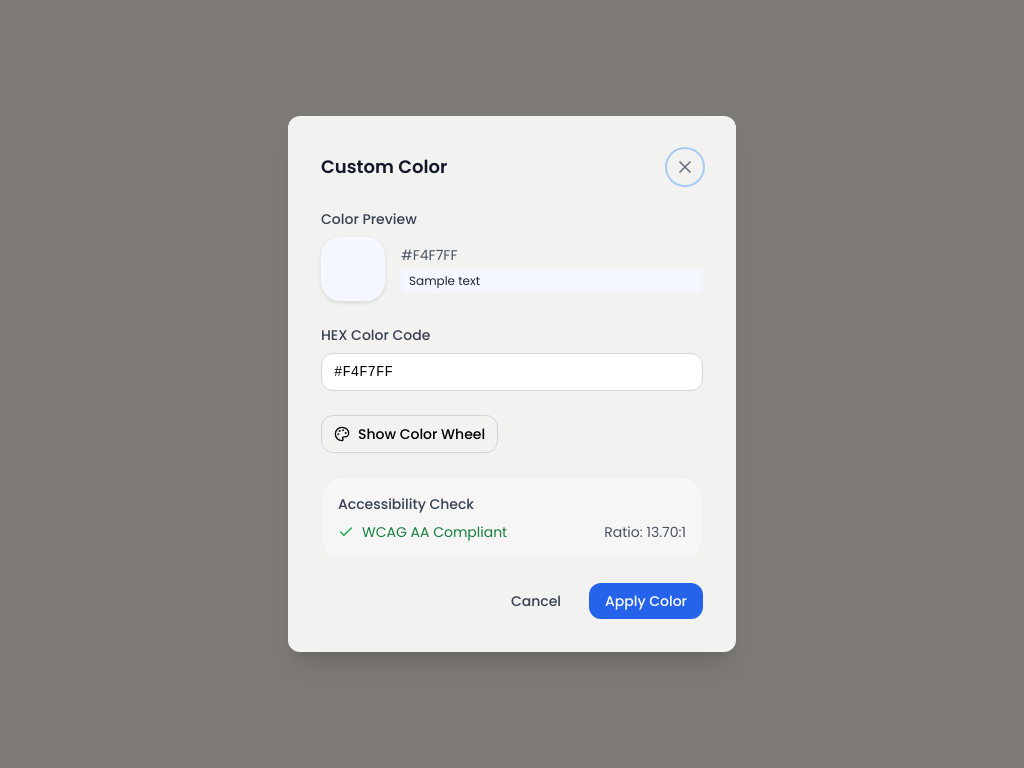
Test: AdvancedColorModal › auto-adds # prefix to color input
Replace the text in the field with test id "hex-input" with "FF5733" at point(512, 372), box [321,353,703,391]
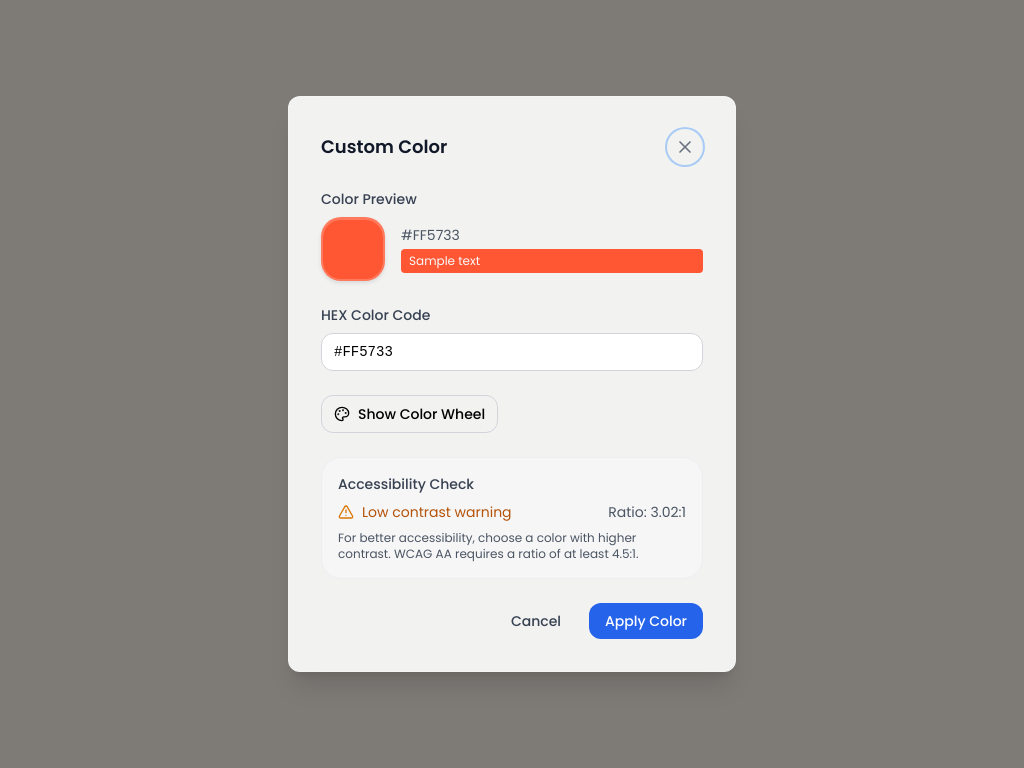
Result: the field with test id "hex-input" holds "#FF5733" at [321,333,703,371]
